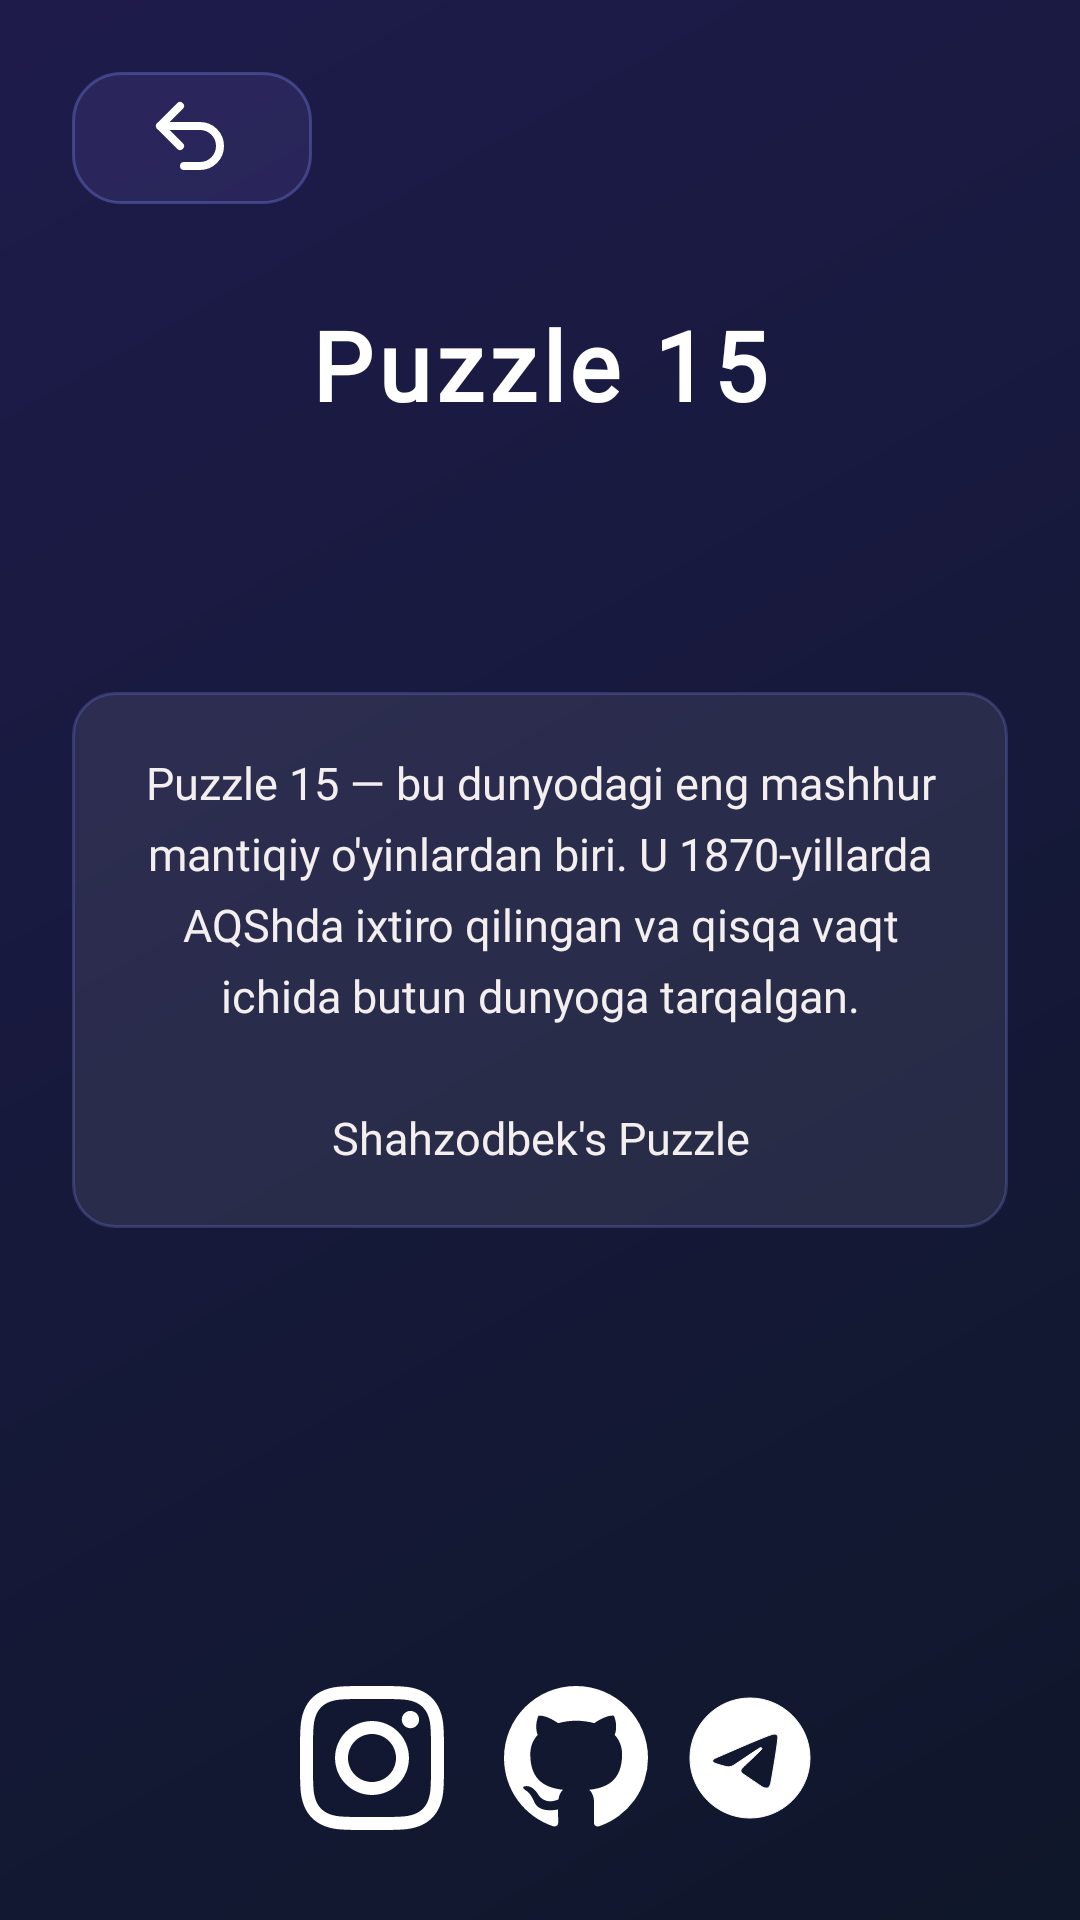

Where icons sit on this 1080x1920 app screen, as (x1, y1, x2, y2):
back: (72, 72, 312, 204)
